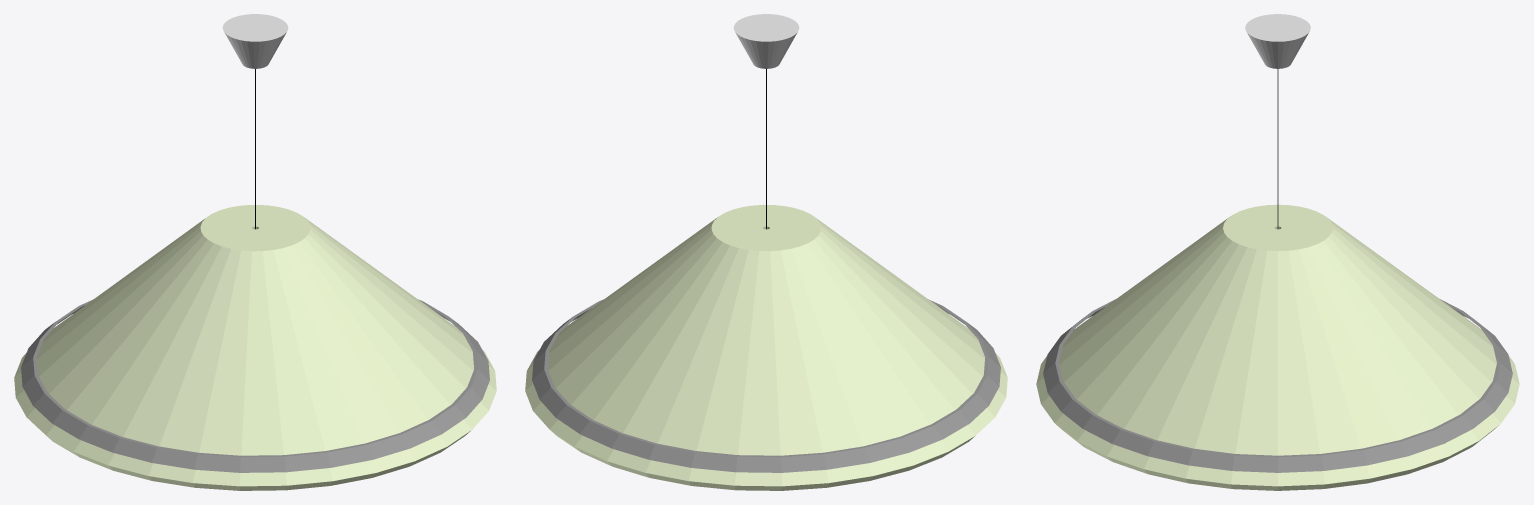
File: lampadario.fbx
3 views of the same model, side by side, from view 1: azimuth 30°, elevation 25°; view 2: azimuth 150°, elevation 25°; view 3: azimuth 270°, elevation 25° (orthographic).
Parts seen in each view (by area): view 1: Cone, ExternalRing, Canopy; view 2: Cone, ExternalRing, Canopy; view 3: Cone, ExternalRing, Canopy.
Boxes of the visible parts, <box> form: Cone: <box>14,204,496,490</box>; ExternalRing: <box>21,299,489,472</box>; Canopy: <box>222,14,288,68</box>; Cone: <box>525,204,1007,490</box>; ExternalRing: <box>532,299,1000,472</box>; Canopy: <box>733,14,799,68</box>; Cone: <box>1036,204,1519,490</box>; ExternalRing: <box>1043,299,1512,472</box>; Canopy: <box>1245,14,1310,68</box>.
Bounding box in the file's own units: 200 × 182 × 200.
